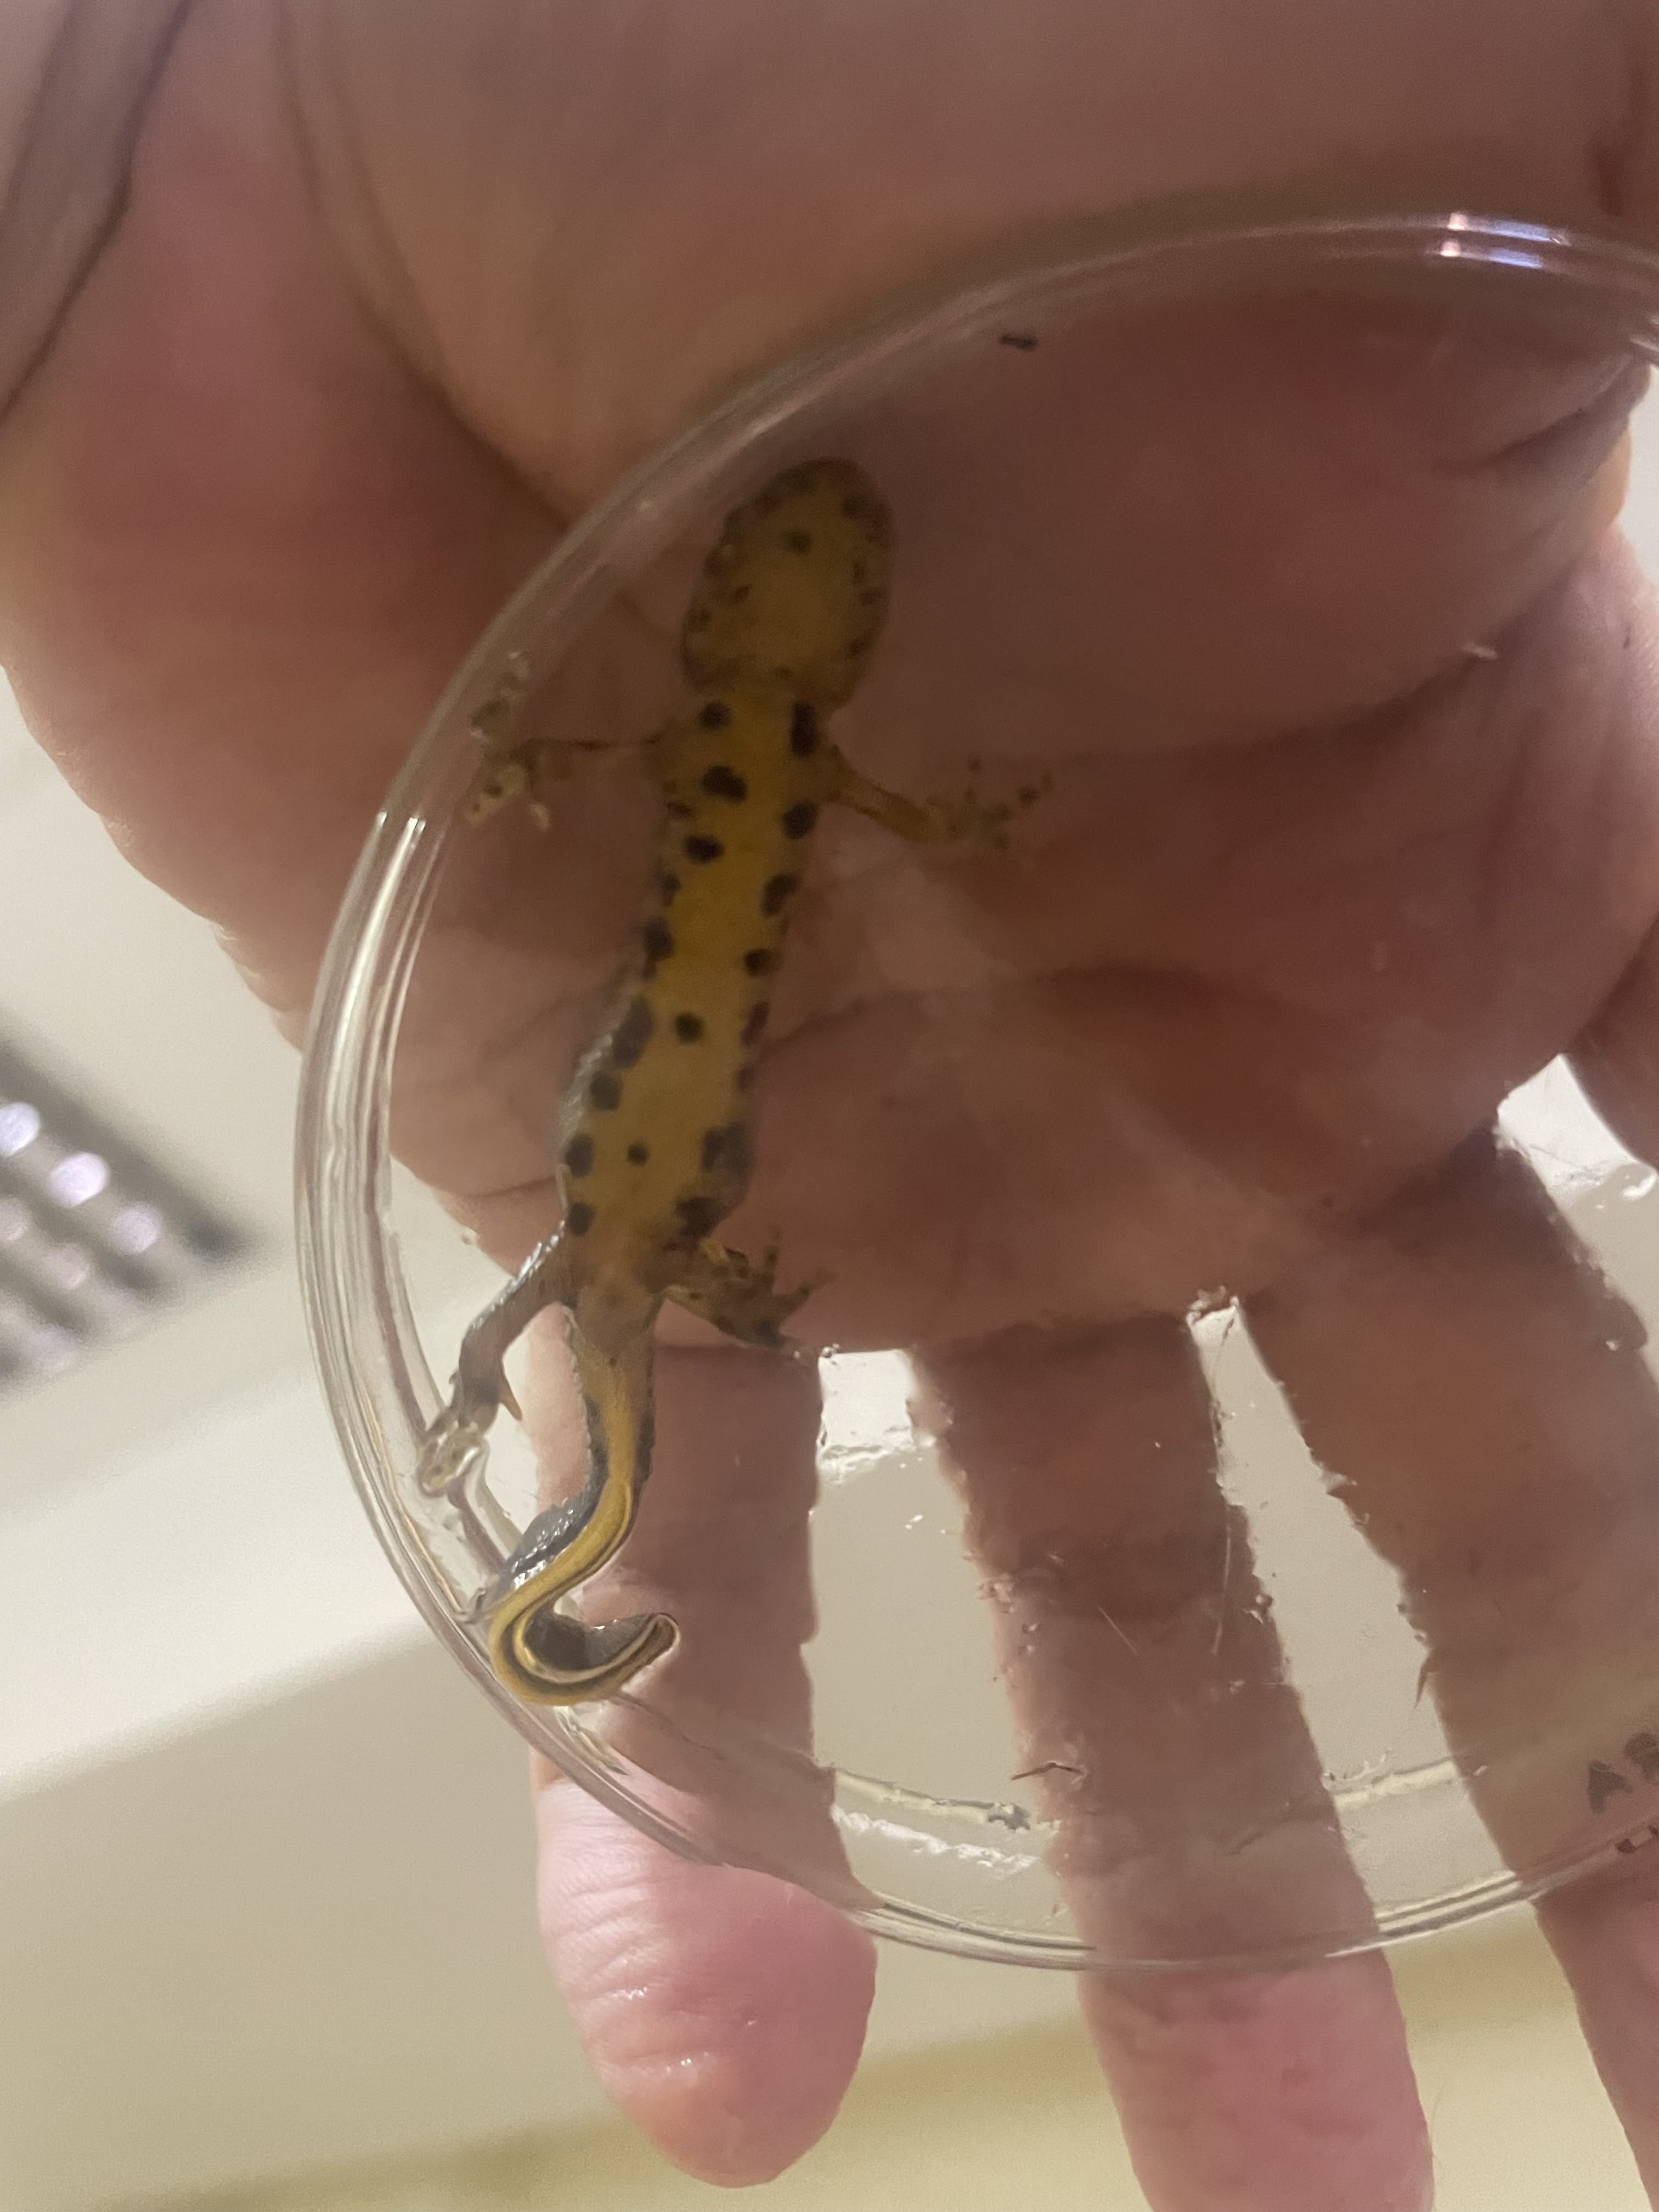Karelin_newt: (551, 777, 824, 1237)
